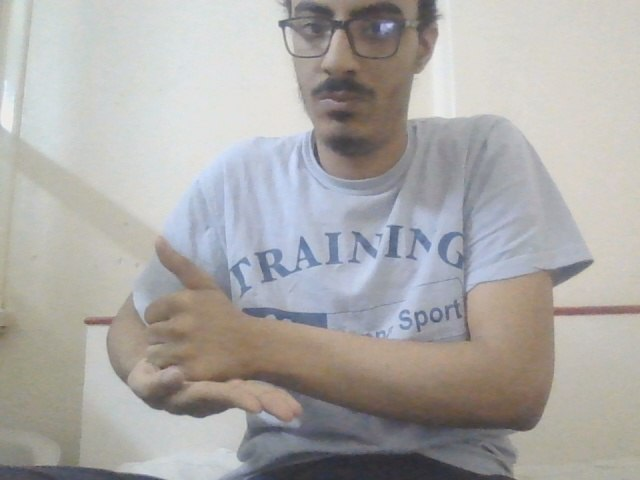Help: (125, 235, 308, 435)
